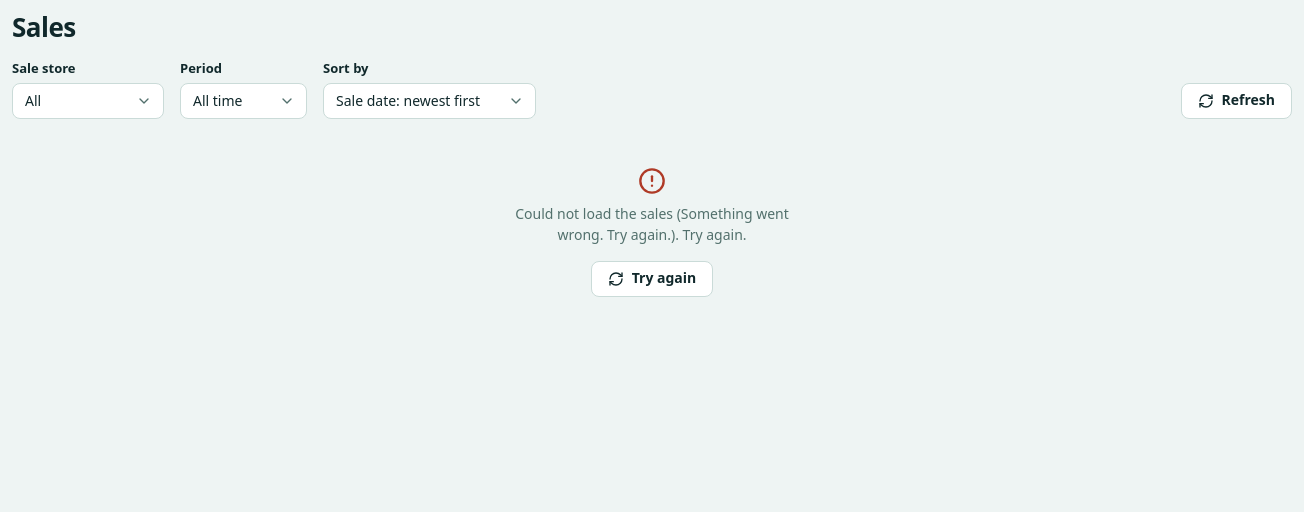
Test: página Vendas › falha ao carregar: ErrorState com "Try again" que recarrega
Click the button "Try again". click: (652, 279)
box: [591, 261, 713, 297]
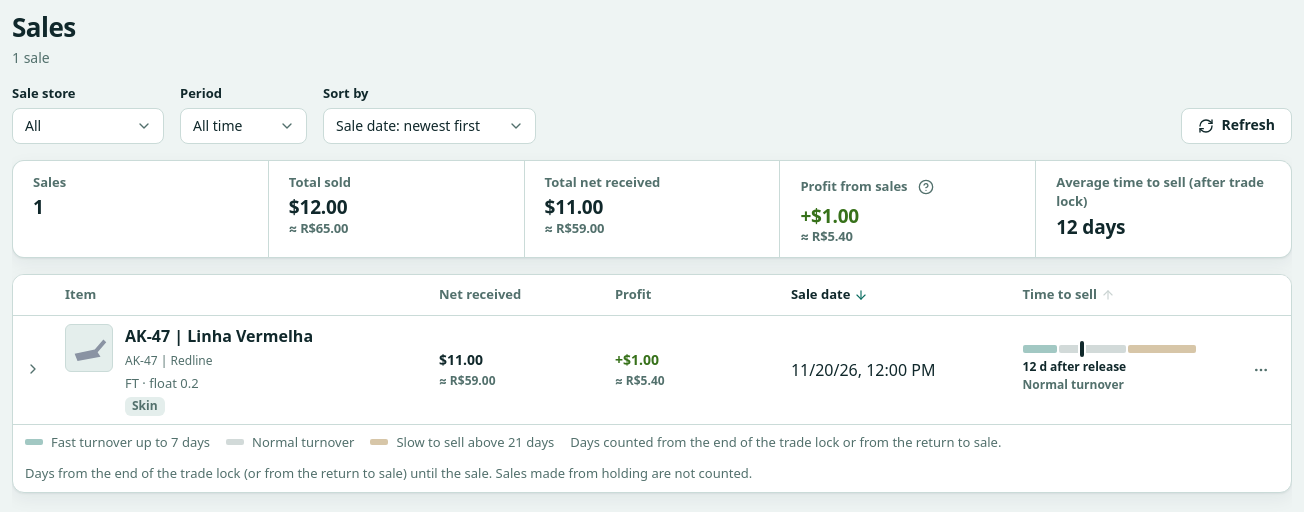
Now the text "AK-47 | Linha Vermelha" is shown, box [125, 324, 313, 348]
